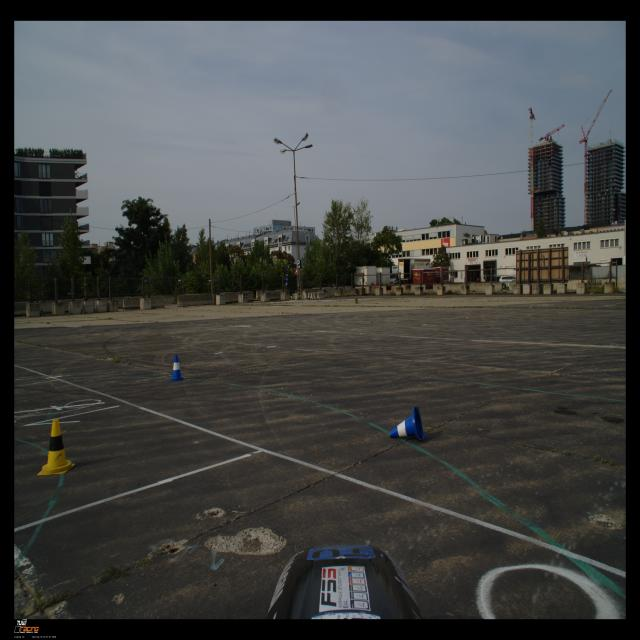blue_cone: (390, 407, 424, 441), (170, 355, 184, 381)
yellow_cone: (37, 420, 75, 476)
